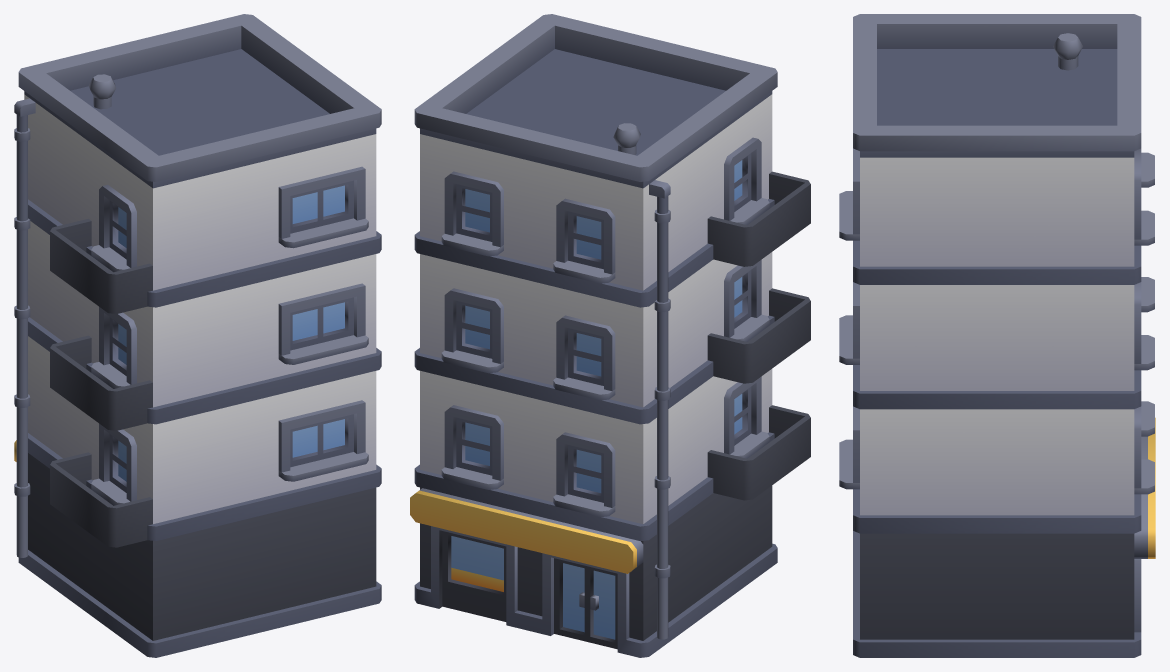
The model's file is tower-standard.glb.
The picture shows the model from 3 angles, left to right: view 1: azimuth 30°, elevation 25°; view 2: azimuth 150°, elevation 25°; view 3: azimuth 270°, elevation 25°; orthographic projection. The views are drawn at different scales.
Parts seen in each view (by area): view 1: building-g; view 2: building-g; view 3: building-g.
Boxes of the visible parts, box(x1,y1,x2,y2) form: building-g: box(14, 14, 381, 657); building-g: box(410, 14, 810, 657); building-g: box(839, 14, 1155, 657).
Size of the model in its own units: 0.97 by 1.69 by 0.9221.
Materials: 1 (1 with a texture image).
